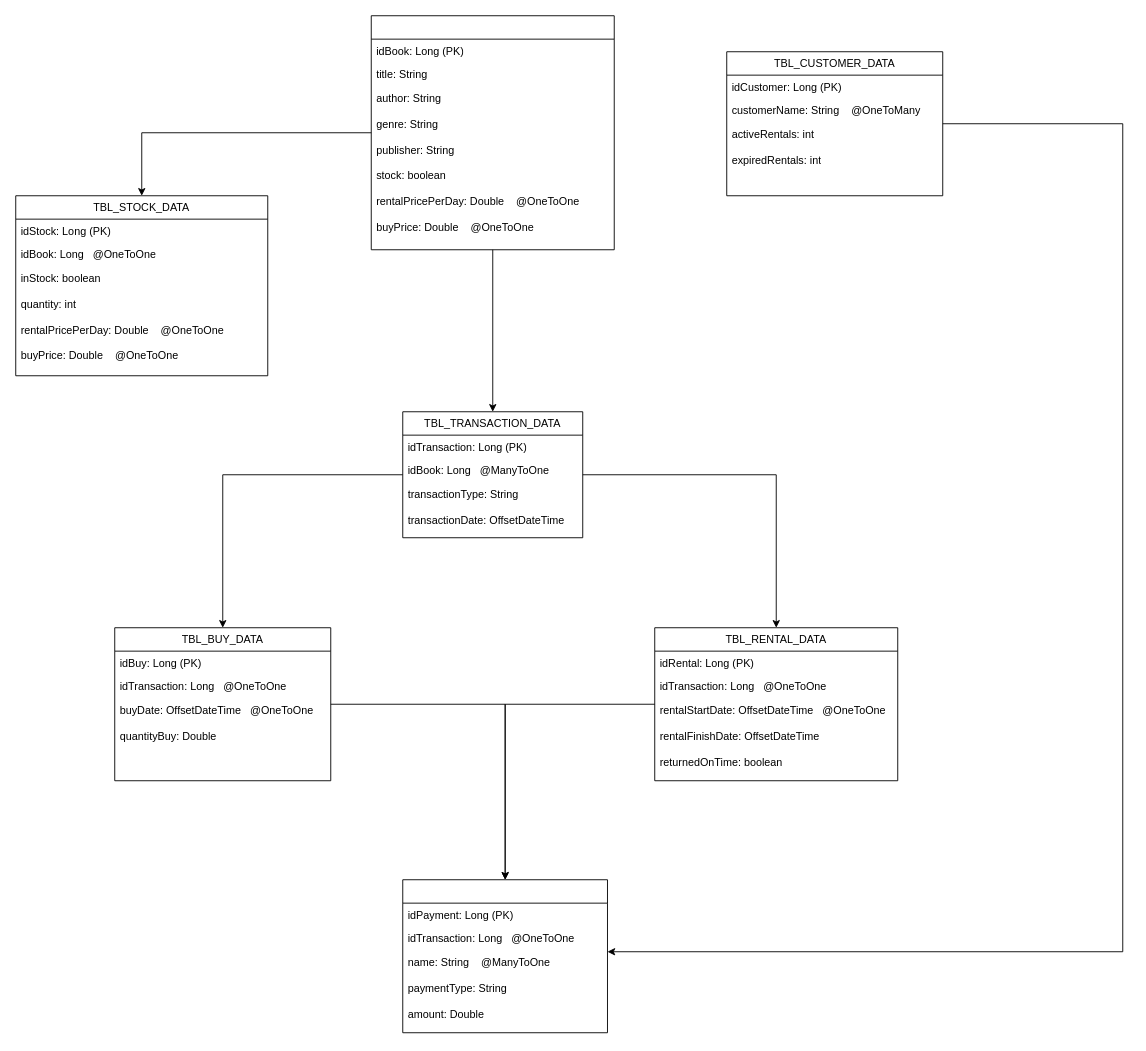
Some shapes in this 1146 by 1051 pixel diagram are drawn without their labels. Each missing label, with the box of its shape:
TBL_BOOK_DATA: (370, 15, 614, 250)
TBL_PAYMENT_DATA: (402, 879, 608, 1033)
